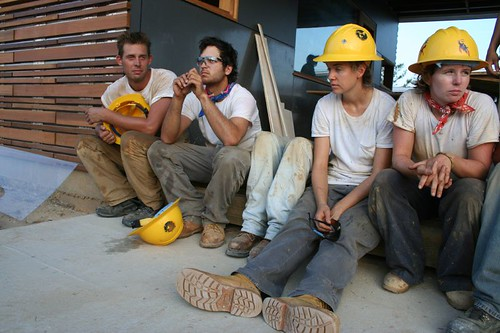hardhat: (123, 194, 190, 253), (98, 93, 162, 138)
person hardhat: (279, 20, 399, 329), (398, 25, 487, 306)
